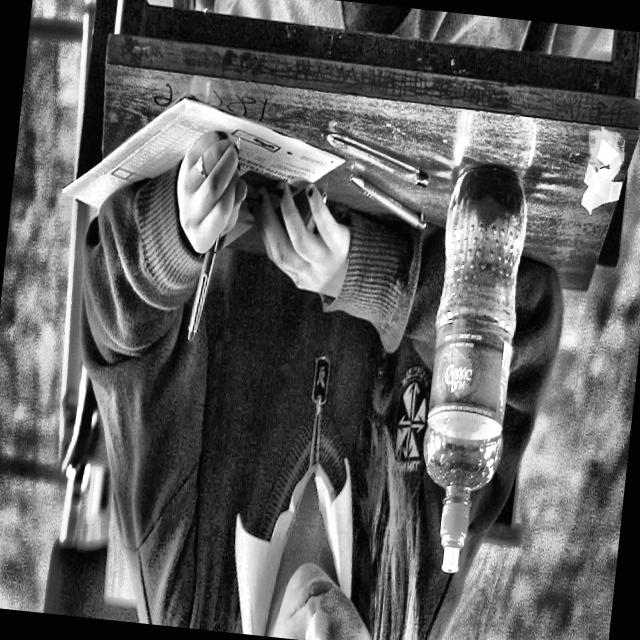waterbottle: (403, 146, 538, 590)
